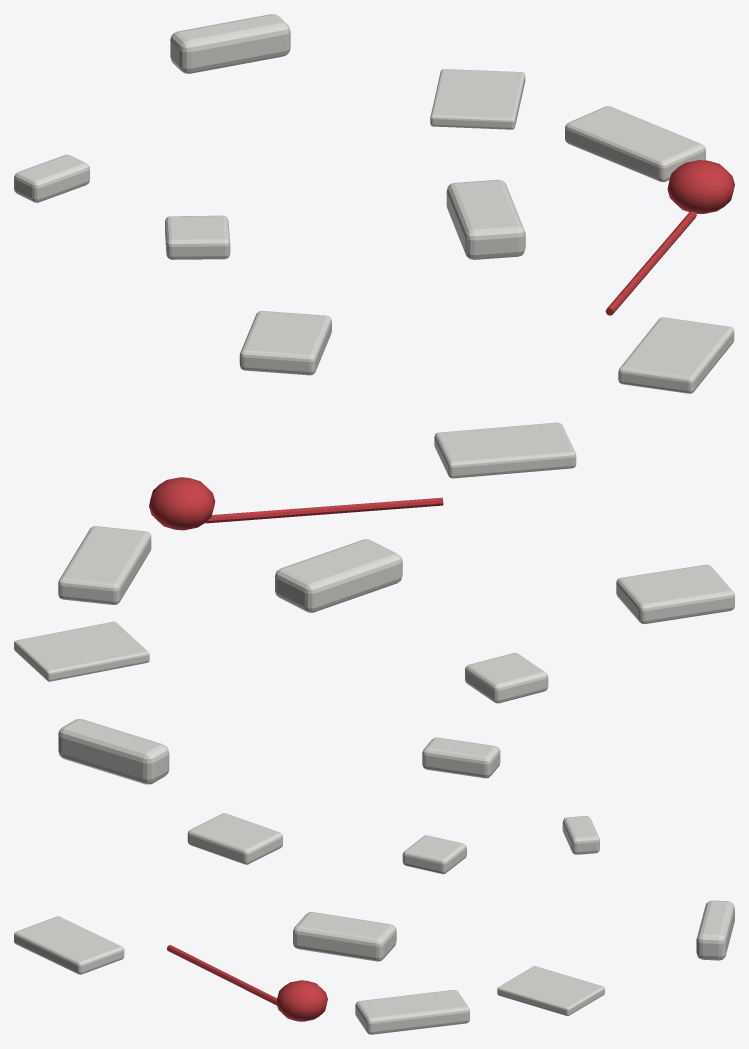
Rendered from PRP_Vase_Broken.fbx.
3 renders of one model, top to bottom at view 1: azimuth 30°, elevation 25°; view 2: azimuth 150°, elevation 25°; view 3: azimuth 270°, elevation 25°, orthographic. The views are drawn at different scales.
Parts seen in each view (by area): view 1: Vase_Shard_07, Vase_Shard_01, Vase_Shard_03, Vase_Shard_08, Vase_Shard_02, Vase_Shard_06, Vase_Roses_Fallen, Vase_Shard_05, Vase_Shard_04; view 2: Vase_Shard_07, Vase_Shard_08, Vase_Shard_01, Vase_Shard_02, Vase_Shard_06, Vase_Roses_Fallen, Vase_Shard_03, Vase_Shard_05, Vase_Shard_04; view 3: Vase_Shard_08, Vase_Shard_01, Vase_Shard_07, Vase_Shard_02, Vase_Shard_06, Vase_Roses_Fallen, Vase_Shard_03, Vase_Shard_05, Vase_Shard_04.
Boxes of the visible parts, box(x1,y1,x2,y2) form: Vase_Shard_07: box(618, 317, 734, 393); Vase_Shard_01: box(565, 106, 705, 181); Vase_Shard_03: box(170, 14, 290, 73); Vase_Shard_08: box(446, 179, 525, 259); Vase_Shard_02: box(430, 69, 525, 129); Vase_Shard_06: box(239, 311, 331, 375); Vase_Roses_Fallen: box(605, 160, 734, 315); Vase_Shard_05: box(165, 215, 230, 259); Vase_Shard_04: box(14, 154, 89, 202); Vase_Shard_07: box(434, 422, 576, 478); Vase_Shard_08: box(275, 539, 402, 612); Vase_Shard_01: box(58, 526, 151, 604); Vase_Shard_02: box(14, 621, 149, 681); Vase_Shard_06: box(616, 564, 734, 624); Vase_Roses_Fallen: box(149, 477, 443, 530); Vase_Shard_03: box(58, 719, 169, 784); Vase_Shard_05: box(465, 653, 548, 703); Vase_Shard_04: box(422, 737, 500, 778); Vase_Shard_08: box(293, 912, 396, 961); Vase_Shard_01: box(355, 990, 469, 1034); Vase_Shard_07: box(14, 916, 124, 974); Vase_Shard_02: box(497, 966, 604, 1015); Vase_Shard_06: box(187, 813, 282, 864); Vase_Roses_Fallen: box(167, 945, 327, 1021); Vase_Shard_03: box(696, 900, 734, 960); Vase_Shard_05: box(402, 835, 466, 874); Vase_Shard_04: box(562, 816, 599, 854).
Size of the model in its own units: 52.83 by 4.2 by 76.93.
